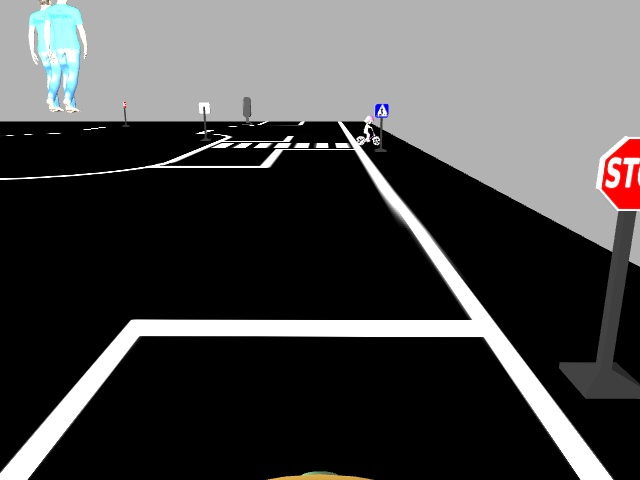Stop: (595, 132, 639, 216)
